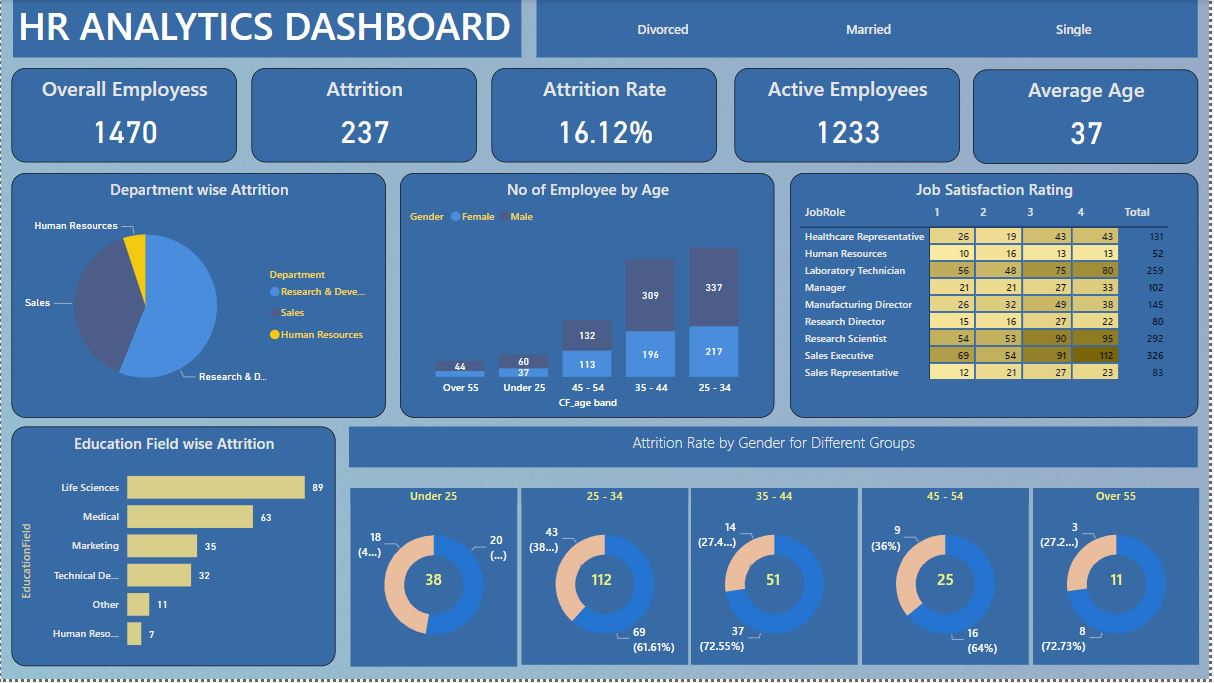

This screenshot's page, from the dashboard's own definition file:
{"tool":"powerbi","page":{"name":"Page 1","canvas":[1280,720],"ordinal":0},"visuals":[{"type":"card","title":"Overall Employess","fields":{"Values":["Sum(HR-Employee-Attrition.EmployeeCount)"]},"box":[11.1,73.1,238.4,100.1],"z":0},{"type":"card","title":"Attrition Rate","fields":{"Values":["HR-Employee-Attrition.Attrition Rate"]},"box":[519.7,73.1,238.4,100.1],"z":1000},{"type":"card","title":"Attrition","fields":{"Values":["Sum(HR-Employee-Attrition.Attrition_Count)"]},"box":[265.4,73.1,238.4,100.1],"z":2000},{"type":"card","title":"Average Age","fields":{"Values":["Avg(HR-Employee-Attrition.Age)"]},"box":[1029.9,74.7,238.4,100.1],"z":3000},{"type":"card","title":"Active Employees","fields":{"Values":["HR-Employee-Attrition.Active Employees"]},"box":[777.2,73.1,238.4,100.1],"z":4000},{"type":"pieChart","title":"Department wise Attrition","fields":{"Category":["HR-Employee-Attrition.Department"],"Y":["Sum(HR-Employee-Attrition.Attrition_Count)"]},"box":[10.9,184.3,396.7,259.3],"z":5000},{"type":"columnChart","title":"No of Employee by Age","fields":{"Y":["Sum(HR-Employee-Attrition.EmployeeCount)"],"Series":["HR-Employee-Attrition.Gender"],"Category":["HR-Employee-Attrition.CF_age band"]},"box":[423.3,184.3,396.7,259.3],"z":6000},{"type":"pivotTable","title":"Job Satisfaction Rating","fields":{"Rows":["HR-Employee-Attrition.JobRole"],"Columns":["HR-Employee-Attrition.JobSatisfaction"],"Values":["Sum(HR-Employee-Attrition.EmployeeCount)"]},"box":[835.6,184.3,432.6,259.3],"z":7000},{"type":"barChart","title":"Education Field wise Attrition","fields":{"Category":["HR-Employee-Attrition.EducationField"],"Y":["Sum(HR-Employee-Attrition.Attrition_Count)"]},"box":[11.1,453,343.3,254.3],"z":8000},{"type":"donutChart","title":"Under 25","fields":{"Series":["HR-Employee-Attrition.CF_age band"],"Category":["HR-Employee-Attrition.Gender"],"Y":["Sum(HR-Employee-Attrition.Attrition_Count)"]},"box":[370.3,518.1,176.4,189.1],"z":9000},{"type":"textbox","box":[613.8,649.7,206.2,32.8],"z":10000},{"type":"textbox","box":[1015.2,649.7,220.2,32.8],"z":11000},{"type":"textbox","box":[368.5,453.5,899.5,43.5],"z":12000},{"type":"donutChart","title":"25 - 34","fields":{"Series":["HR-Employee-Attrition.CF_age band"],"Category":["HR-Employee-Attrition.Gender"],"Y":["Sum(HR-Employee-Attrition.Attrition_Count)"]},"box":[551.3,518.5,176.5,187.4],"z":13000},{"type":"donutChart","title":"35 - 44","fields":{"Series":["HR-Employee-Attrition.CF_age band"],"Category":["HR-Employee-Attrition.Gender"],"Y":["Sum(HR-Employee-Attrition.Attrition_Count)"]},"box":[730.9,518.5,176.5,187.4],"z":14000},{"type":"donutChart","title":"45 - 54","fields":{"Series":["HR-Employee-Attrition.CF_age band"],"Category":["HR-Employee-Attrition.Gender"],"Y":["Sum(HR-Employee-Attrition.Attrition_Count)"]},"box":[912.1,518.5,176.5,187.4],"z":15000},{"type":"donutChart","title":"Over 55","fields":{"Series":["HR-Employee-Attrition.CF_age band"],"Category":["HR-Employee-Attrition.Gender"],"Y":["Sum(HR-Employee-Attrition.Attrition_Count)"]},"box":[1093.3,518.5,176,187.4],"z":16000},{"type":"card","fields":{"Values":["Sum(HR-Employee-Attrition.Attrition_Count)"]},"box":[614.2,599.1,45.4,35.9],"z":17000},{"type":"card","fields":{"Values":["Sum(HR-Employee-Attrition.Attrition_Count)"]},"box":[793.7,599.1,49.1,35.9],"z":18000},{"type":"card","fields":{"Values":["Sum(HR-Employee-Attrition.Attrition_Count)"]},"box":[1156.5,599.1,49.1,35.9],"z":19000},{"type":"card","fields":{"Values":["Sum(HR-Employee-Attrition.Attrition_Count)"]},"box":[975.1,599.1,49.1,35.9],"z":20000},{"type":"card","fields":{"Values":["Sum(HR-Employee-Attrition.Attrition_Count)"]},"box":[436.5,599.1,41.6,35.9],"z":21000},{"type":"textbox","title":"HR ANALYTICS DASHBOARD","box":[12.7,0,538.8,62],"z":22000},{"type":"slicer","fields":{"Values":["HR-Employee-Attrition.MaritalStatus"]},"box":[567.4,0,700.9,62],"z":23000}]}

Visuals, with their boxes in screenshot pixels (x1, y1, x2, y2), scaled from the page's 1280x720 canvas onto the 1214x683 screenshot:
"Overall Employess" card: 11 69 237 164
"Attrition Rate" card: 493 69 719 164
"Attrition" card: 252 69 478 164
"Average Age" card: 977 71 1203 166
"Active Employees" card: 737 69 963 164
"Department wise Attrition" pieChart: 10 175 387 421
"No of Employee by Age" columnChart: 401 175 778 421
"Job Satisfaction Rating" pivotTable: 793 175 1203 421
"Education Field wise Attrition" barChart: 11 430 336 671
"Under 25" donutChart: 351 491 519 671
textbox: 582 616 778 647
textbox: 963 616 1172 647
textbox: 349 430 1203 471
"25 - 34" donutChart: 523 492 690 670
"35 - 44" donutChart: 693 492 861 670
"45 - 54" donutChart: 865 492 1032 670
"Over 55" donutChart: 1037 492 1204 670
card - Sum(HR-Employee-Attrition.Attrition_Count): 583 568 626 602
card - Sum(HR-Employee-Attrition.Attrition_Count): 753 568 799 602
card - Sum(HR-Employee-Attrition.Attrition_Count): 1097 568 1143 602
card - Sum(HR-Employee-Attrition.Attrition_Count): 925 568 971 602
card - Sum(HR-Employee-Attrition.Attrition_Count): 414 568 453 602
"HR ANALYTICS DASHBOARD" textbox: 12 0 523 59
slicer - HR-Employee-Attrition.MaritalStatus: 538 0 1203 59
